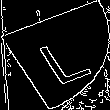L_NW: (21, 25, 89, 85)
